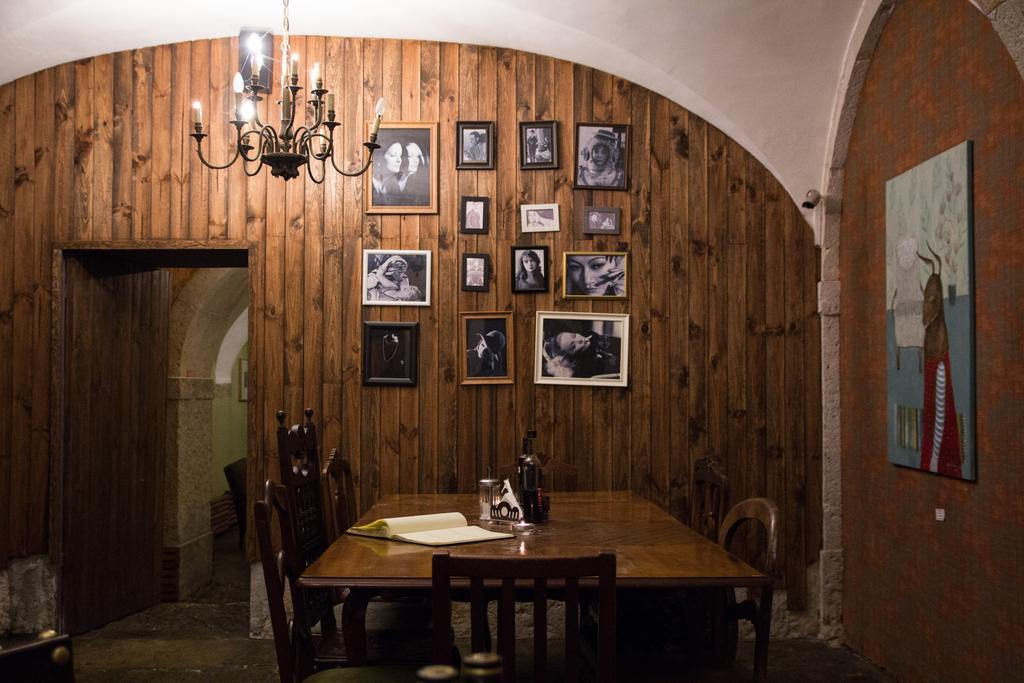Chair: (253, 476, 434, 682), (280, 404, 419, 635), (319, 450, 438, 670), (426, 551, 626, 672), (716, 495, 778, 664)
